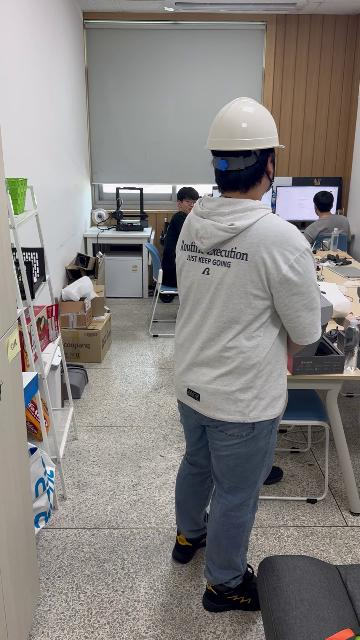helmet_worn: (202, 97, 287, 152)
shoe_not_worn: (263, 465, 284, 485)
shoe_worn: (203, 568, 260, 614), (172, 526, 207, 564)
vest_not_worn: (177, 196, 302, 417)
